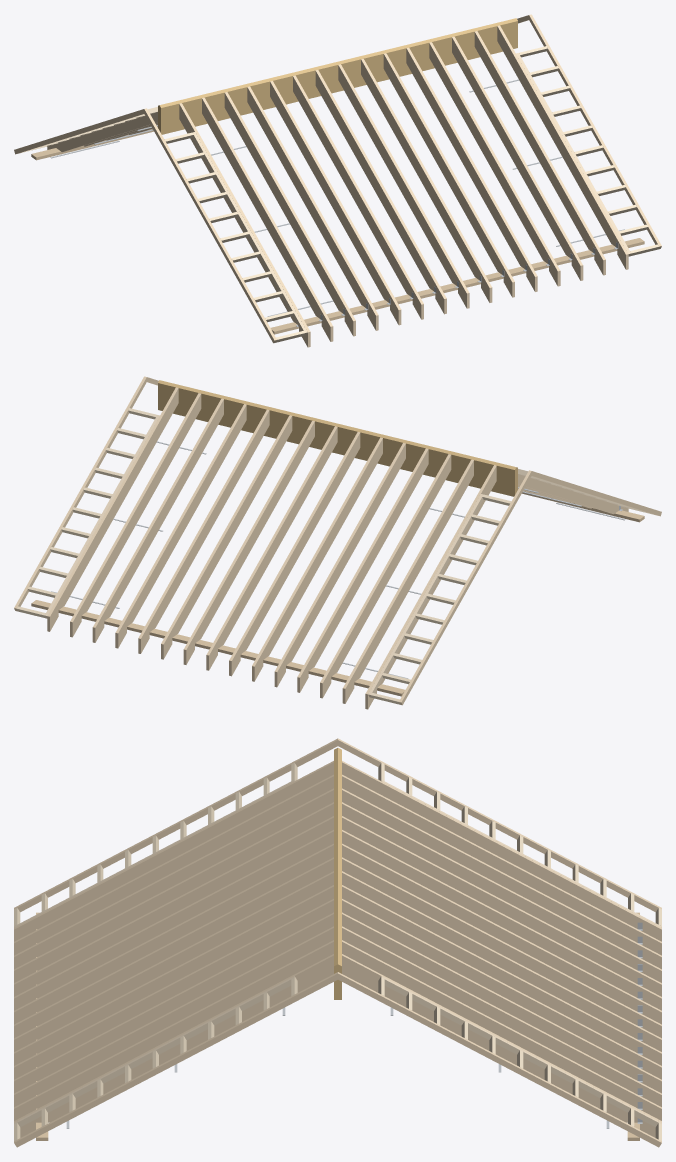
File: stage-4.glb
3 renders of one model, top to bottom at view 1: azimuth 30°, elevation 25°; view 2: azimuth 150°, elevation 25°; view 3: azimuth 270°, elevation 25°, orthographic. The views are drawn at different scales.
Visible parts, largest first — view 1: Geom3D_R02 common 47 x 220 C24 L4561, Geom3D_GB01 ridge beam 100 x 480 GL24h L6783, Geom3D_OR34 outrigger 47 x 72 C24 L488, Geom3D, Geom3D_LR33 ladder rail 47 x 72 C24 L3950, Geom3D_TCP47 clip; view 2: Geom3D_R02 common 47 x 220 C24 L4561, Geom3D_GB01 ridge beam 100 x 480 GL24h L6783, Geom3D_OR34 outrigger 47 x 72 C24 L488, Geom3D, Geom3D_LR33 ladder rail 47 x 72 C24 L3950, Geom3D_TCP47 clip; view 3: Geom3D_R02 common 47 x 220 C24 L4561, Geom3D_LR33 ladder rail 47 x 72 C24 L3950, Geom3D_OR34 outrigger 47 x 72 C24 L488, Geom3D_GB01 ridge beam 100 x 480 GL24h L6783, Geom3D_TCP47 clip.
Part boxes in pixels (x1,y1,x2,y2): Geom3D_R02 common 47 x 220 C24 L4561: (14, 14, 661, 347); Geom3D_GB01 ridge beam 100 x 480 GL24h L6783: (158, 18, 517, 134); Geom3D_OR34 outrigger 47 x 72 C24 L488: (20, 46, 659, 342); Geom3D: (31, 129, 644, 334); Geom3D_LR33 ladder rail 47 x 72 C24 L3950: (47, 53, 631, 335); Geom3D_TCP47 clip: (50, 79, 624, 326); Geom3D_R02 common 47 x 220 C24 L4561: (14, 376, 661, 709); Geom3D_GB01 ridge beam 100 x 480 GL24h L6783: (158, 380, 517, 496); Geom3D_OR34 outrigger 47 x 72 C24 L488: (16, 408, 655, 704); Geom3D: (31, 491, 644, 696); Geom3D_LR33 ladder rail 47 x 72 C24 L3950: (44, 415, 628, 697); Geom3D_TCP47 clip: (51, 441, 625, 678); Geom3D_R02 common 47 x 220 C24 L4561: (14, 738, 661, 1147); Geom3D_LR33 ladder rail 47 x 72 C24 L3950: (14, 780, 661, 1127); Geom3D_OR34 outrigger 47 x 72 C24 L488: (14, 763, 661, 1140); Geom3D_GB01 ridge beam 100 x 480 GL24h L6783: (334, 748, 341, 999); Geom3D_TCP47 clip: (66, 922, 642, 1128).
Size of the model in its own units: 6.78 by 2.53 by 7.9.
